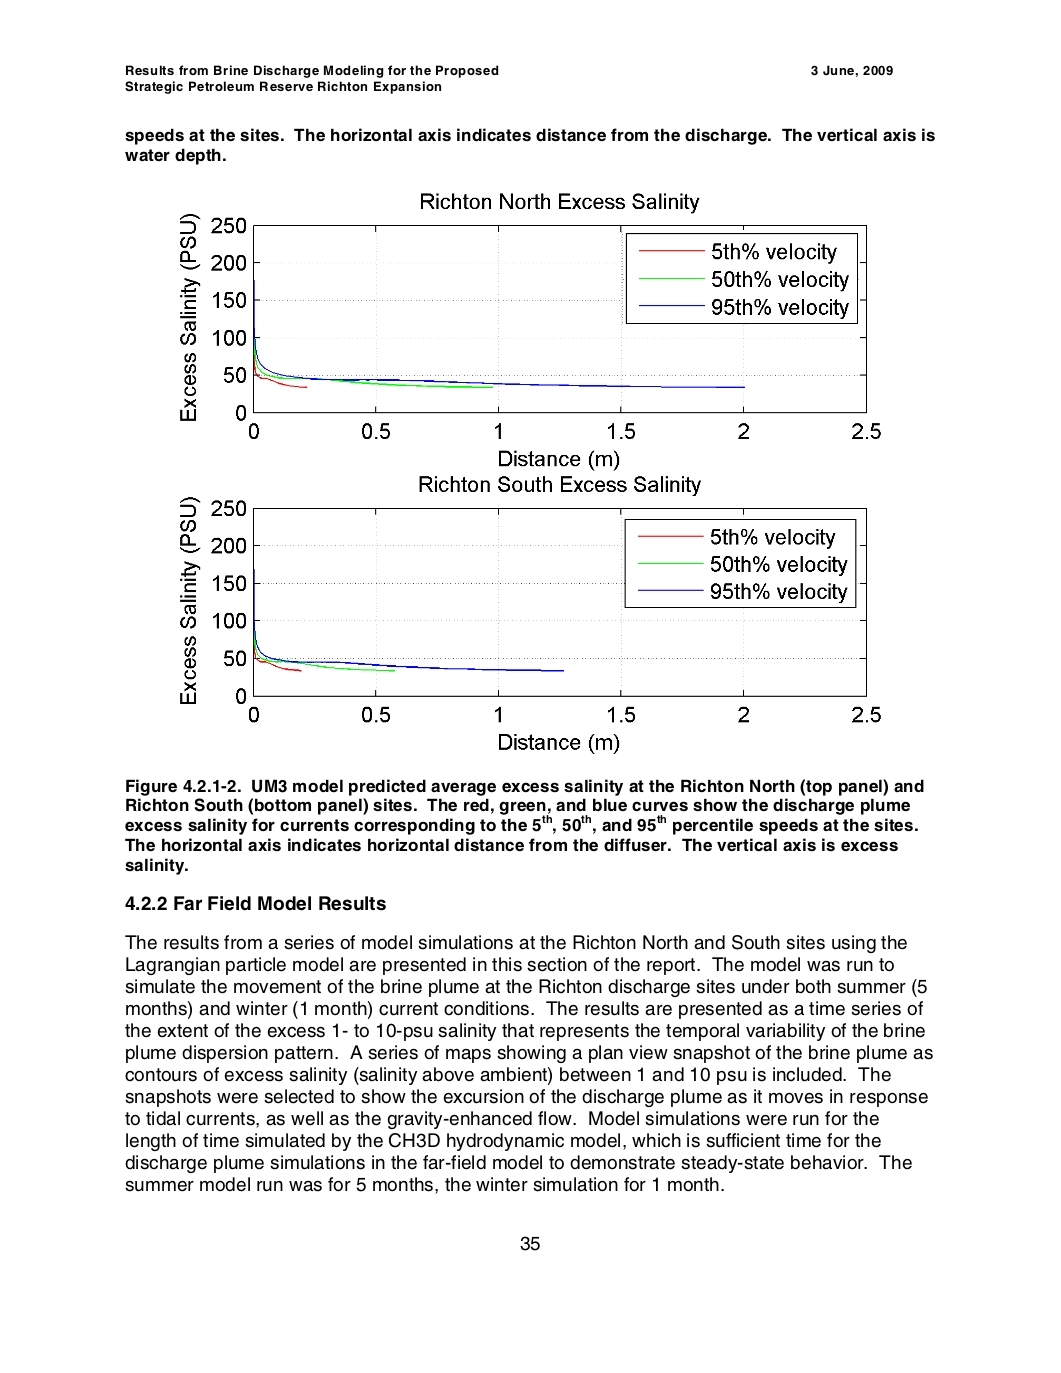figure: (181, 214, 880, 470), (181, 497, 880, 753)
